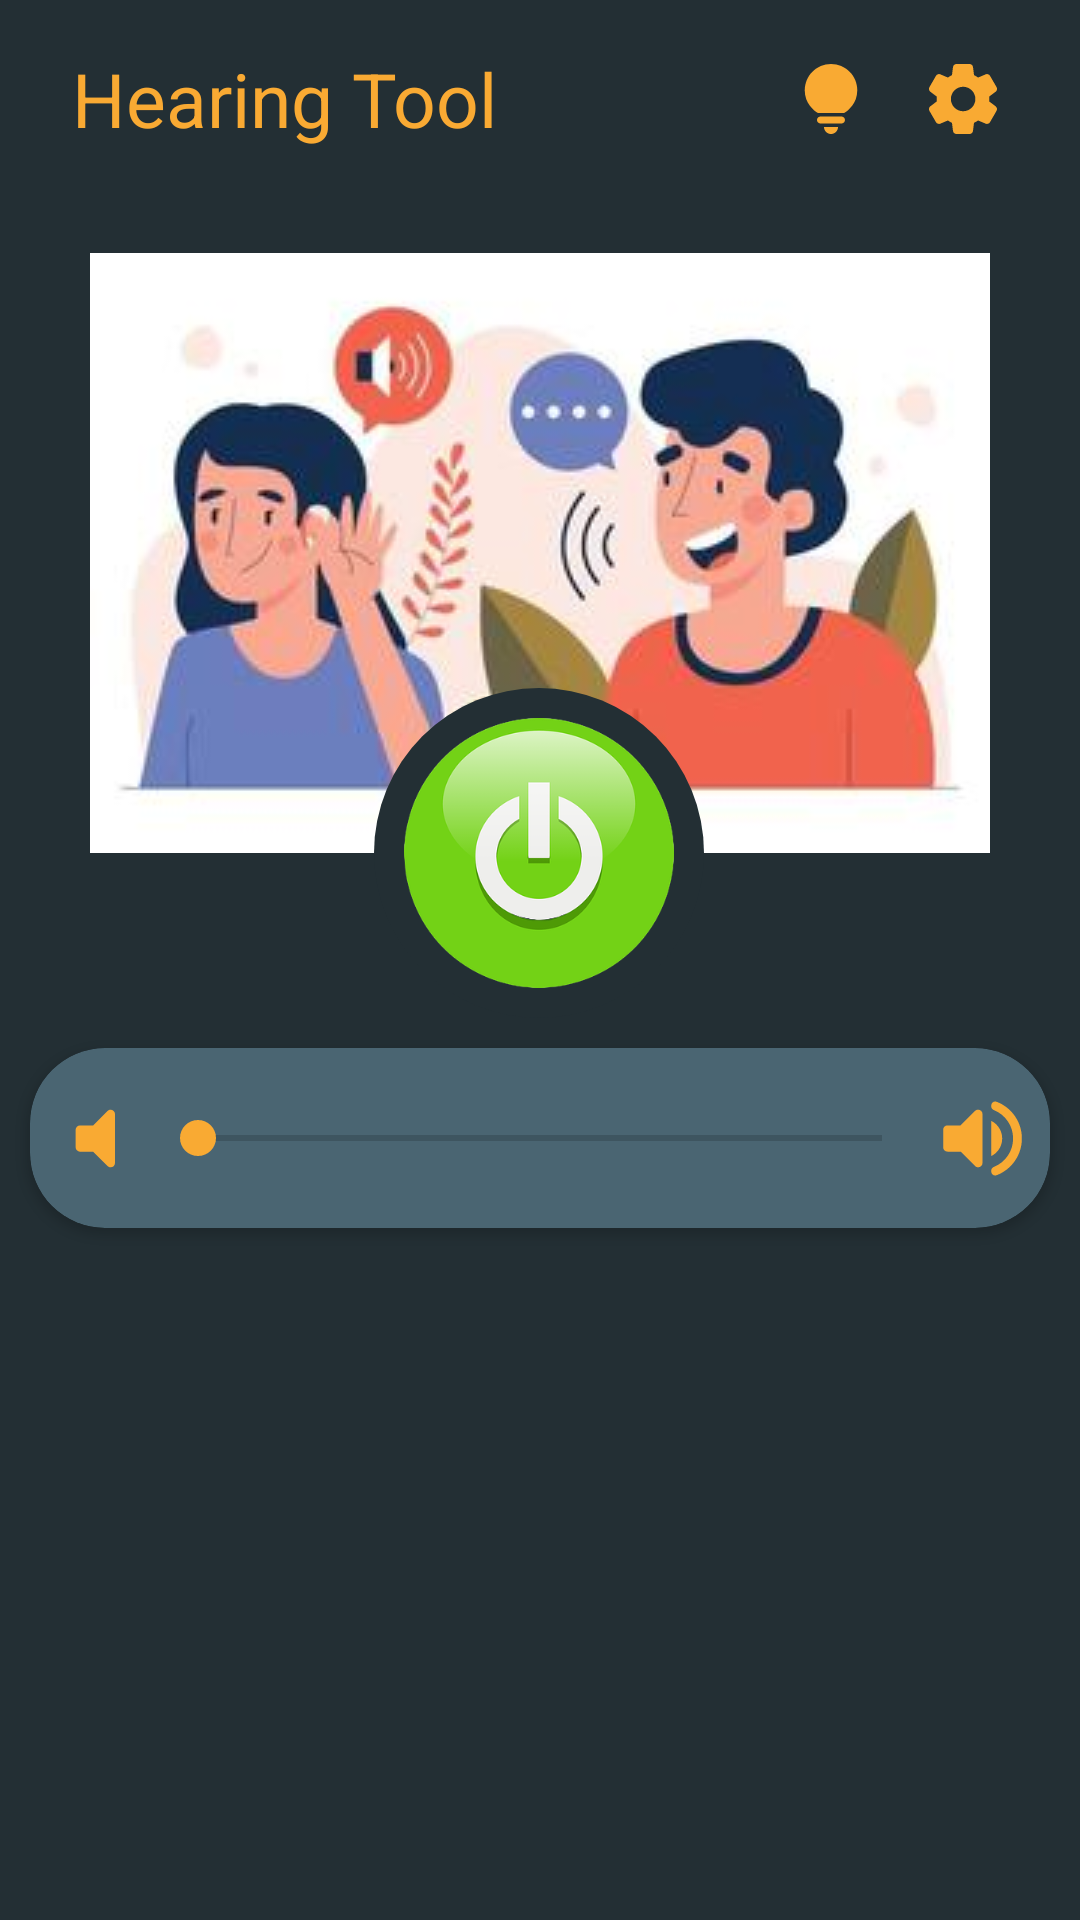

Named icons in this screenshot (1080 x 1920) and their centers, [x,y]:
lightbulb: [831,99]
settings: [963,99]
start: [539,853]
volume mute: [95,1138]
volume up: [982,1138]
